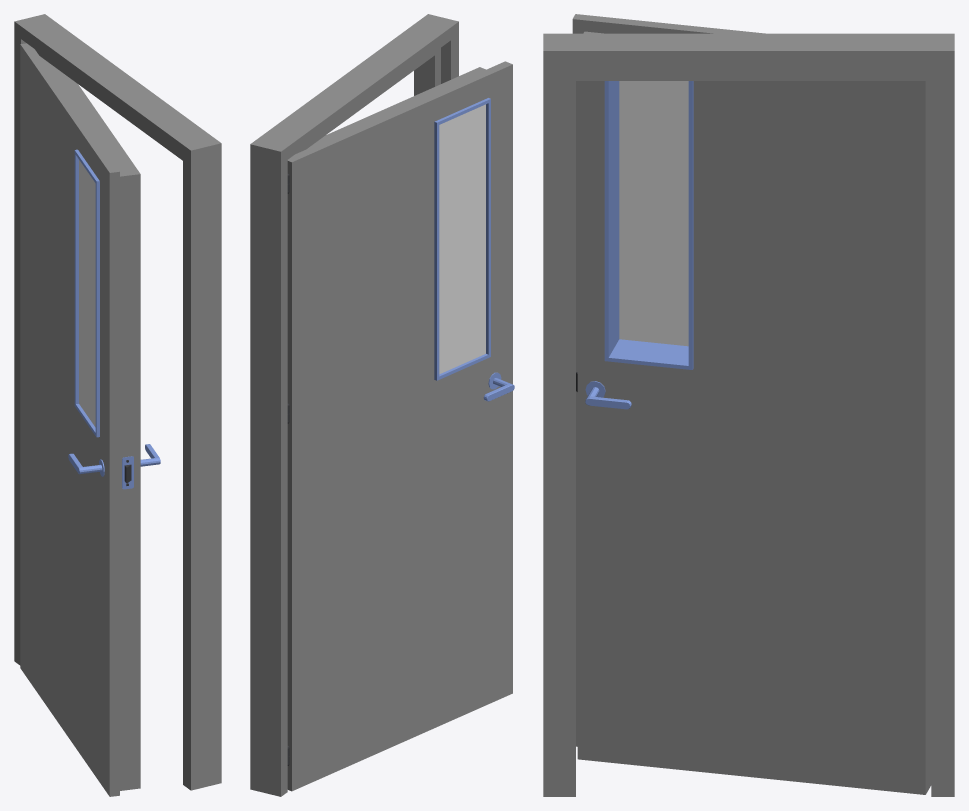
Rendered from ovi.fbx.
3 views of the same model, side by side, from view 1: azimuth 30°, elevation 25°; view 2: azimuth 150°, elevation 25°; view 3: azimuth 270°, elevation 25° (orthographic). The views are drawn at different scales.
Parts seen in each view (by area): view 1: Ovi, Pikkuovi, Lasi, Ikkuna, RipaEtu; view 2: Ovi, Pikkuovi, Lasi, Ikkuna, RipaEtu; view 3: Ovi, Pikkuovi, Lasi, Ikkuna, RipaTaka.
Boxes of the visible parts, box(x1,y1,x2,y2) form: Ovi: box(20, 43, 140, 796); Pikkuovi: box(14, 14, 221, 790); Lasi: box(79, 160, 95, 427); Ikkuna: box(74, 149, 99, 437); RipaEtu: box(68, 453, 104, 476); Ovi: box(287, 61, 512, 791); Pikkuovi: box(250, 14, 458, 796); Lasi: box(439, 104, 485, 374); Ikkuna: box(434, 98, 490, 380); RipaEtu: box(483, 372, 514, 401); Ovi: box(572, 14, 931, 794); Pikkuovi: box(543, 33, 954, 796); Lasi: box(619, 81, 688, 346); Ikkuna: box(604, 81, 693, 369); RipaTaka: box(585, 381, 631, 409).
Size of the model in its own units: 100 by 37.28 by 200.
